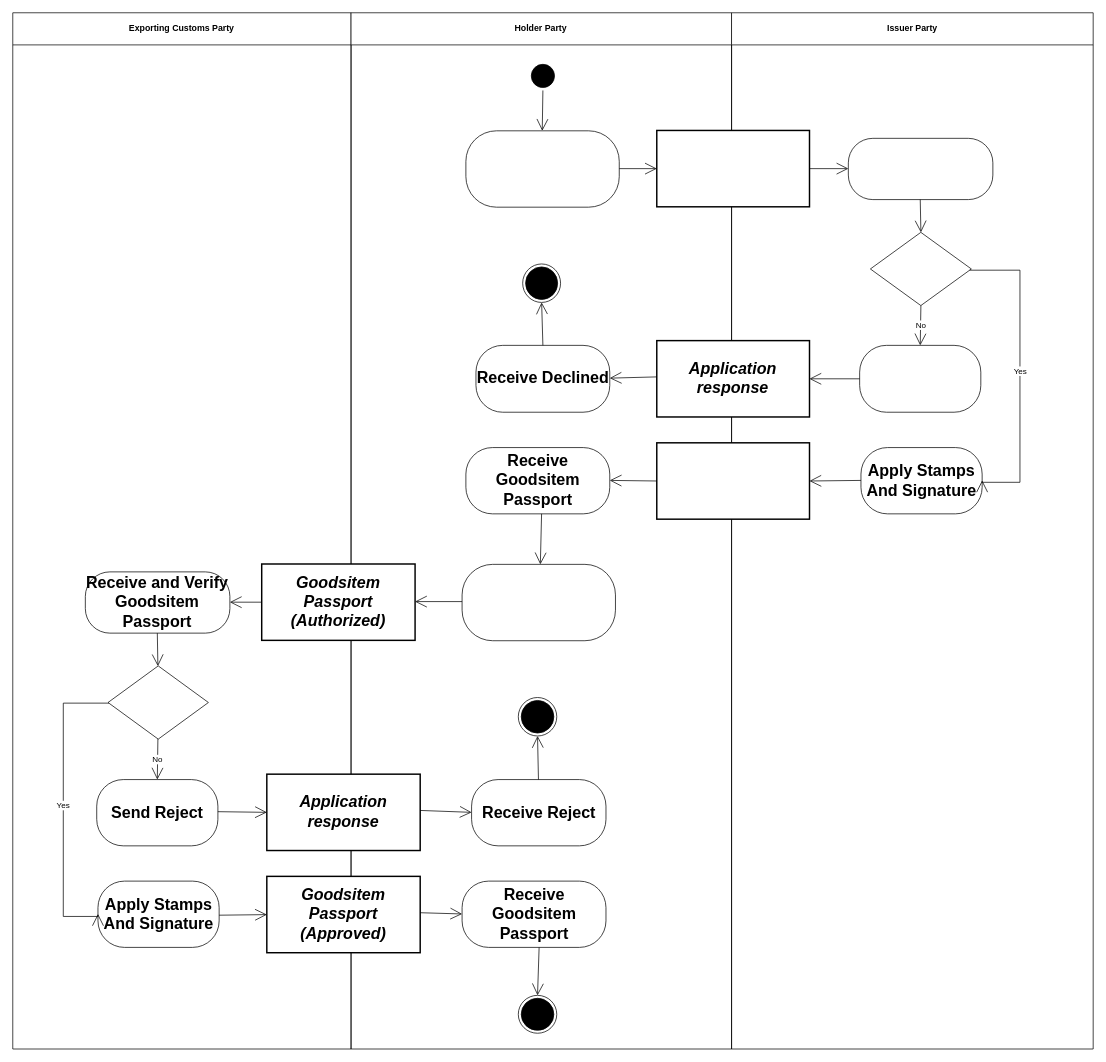
This 1106x1062 diagram has some shape labels left out. Here are the shapes that lost their labels. From the top down, the centre of each, then its label:
(542,168): Draft Goodsitem Passport
(733,168): Goodsitem Passport (Drafted)
(920,169): Verify Goodsitem Passport
(920,269): OK?
(920,378): Send Declined
(733,481): Goodsltem Passport (Authorized)
(538,602): Request Goods To Leave Country
(157,702): Valid?
